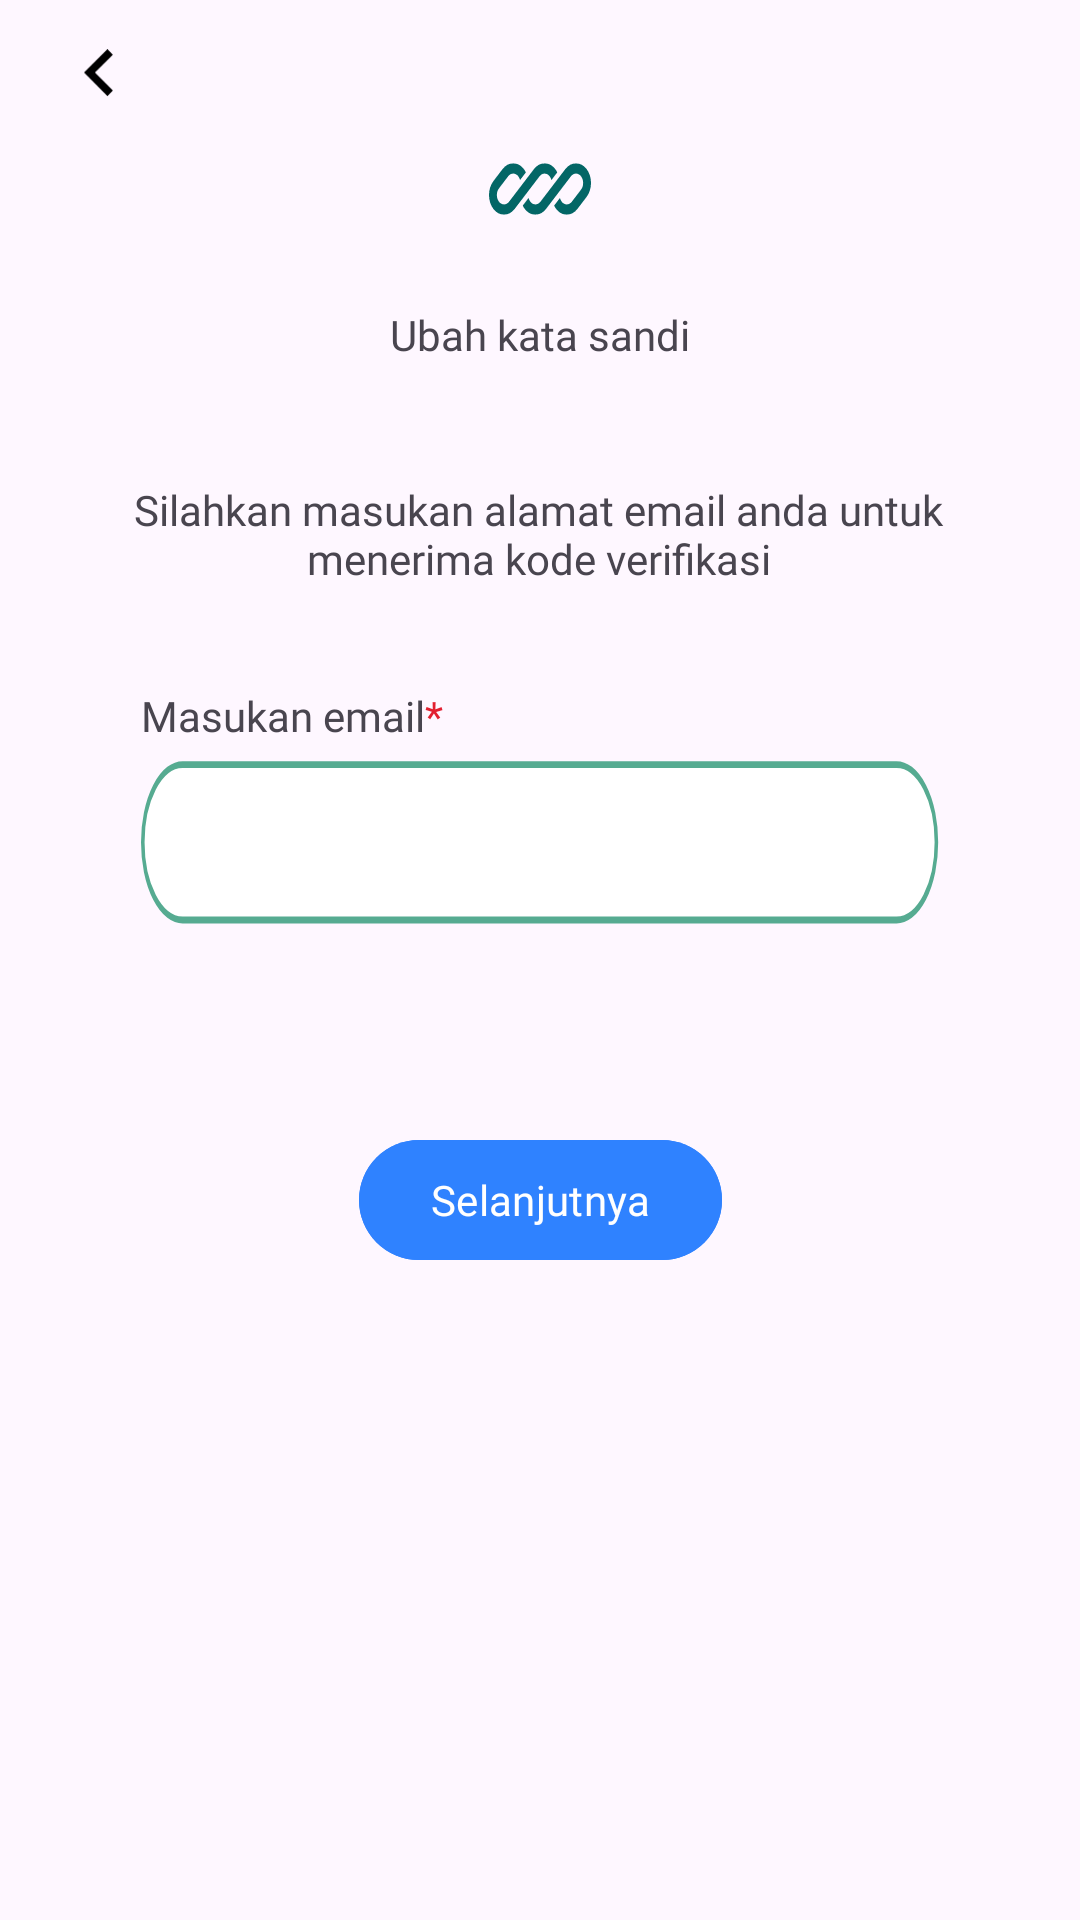

Where to tap for icons on this 1080*1920 app screen, as [x,y]:
back hitam: [98,72]
